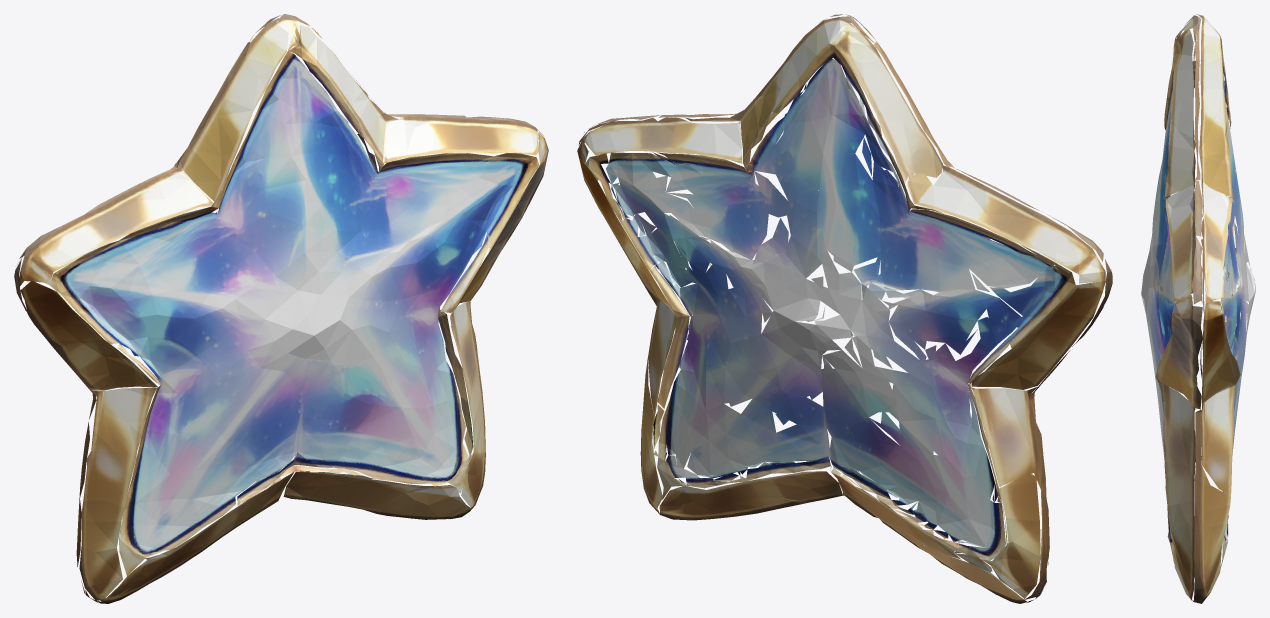
Rendered from star_lo.glb.
3 renders of one model, left to right at view 1: azimuth 30°, elevation 25°; view 2: azimuth 150°, elevation 25°; view 3: azimuth 270°, elevation 25°, orthographic. The views are drawn at different scales.
Visible parts, largest first — view 1: geometry_0; view 2: geometry_0; view 3: geometry_0.
Part boxes in pixels (bbox=[...]): geometry_0: bbox=[14, 14, 548, 603]; geometry_0: bbox=[577, 14, 1112, 603]; geometry_0: bbox=[1141, 14, 1255, 603].
Bounding box in the file's own units: 1 × 0.9863 × 0.2019.
Materials: 1 (1 with a texture image).
